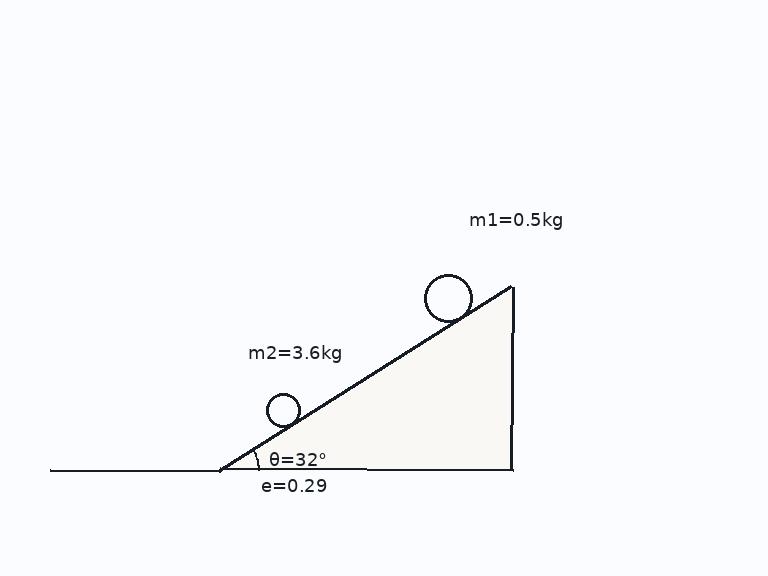ball: (422, 272, 474, 324), (264, 391, 302, 429)
ramp: (217, 285, 514, 472)
